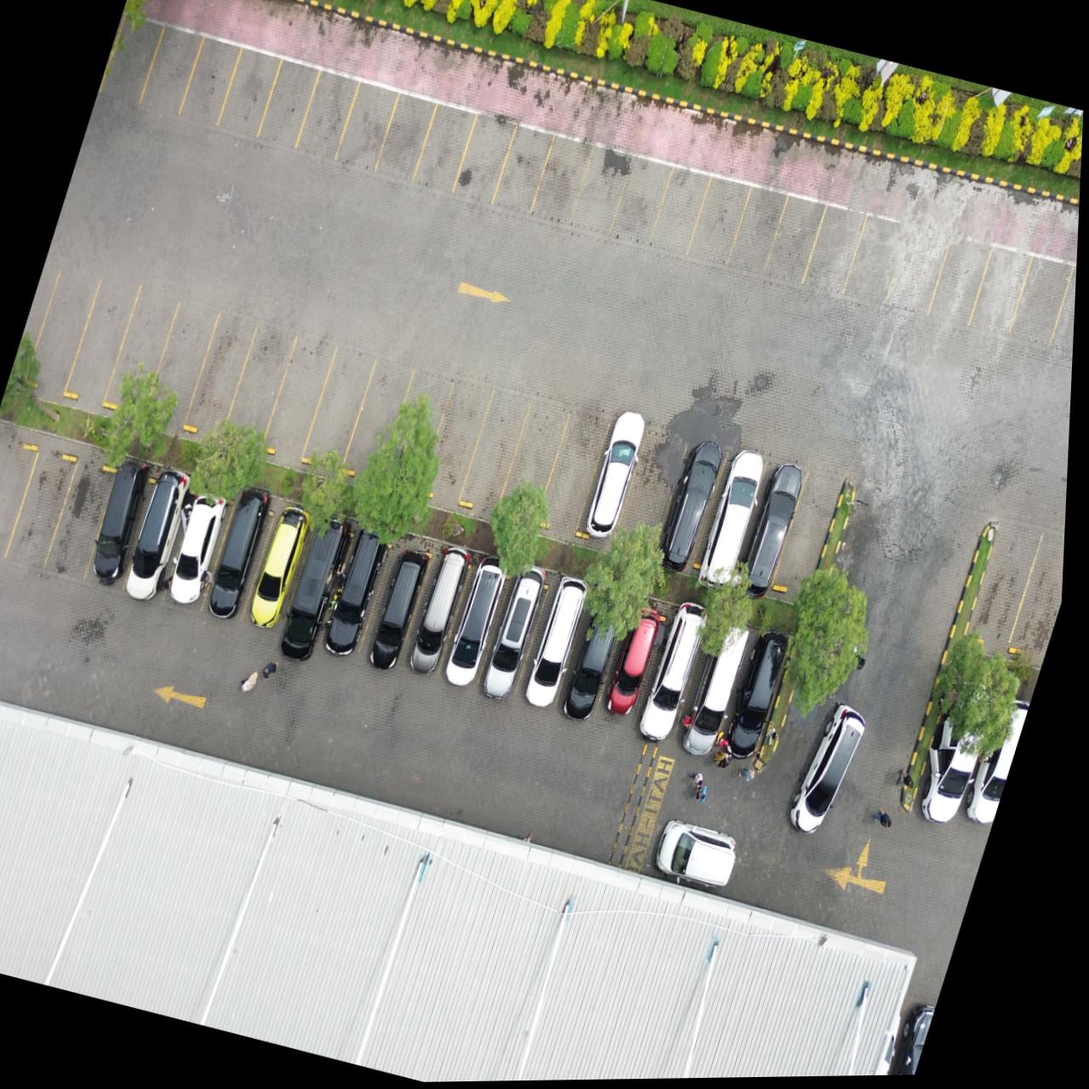cars: (320, 526, 392, 654), (162, 485, 234, 613), (482, 563, 554, 691), (576, 417, 648, 545), (122, 476, 194, 604), (360, 536, 431, 665), (201, 494, 272, 623), (277, 519, 348, 648), (242, 510, 313, 639), (640, 604, 711, 733), (439, 556, 510, 685), (721, 628, 792, 757), (84, 469, 155, 597), (597, 598, 668, 726), (680, 615, 751, 743), (562, 588, 633, 716), (404, 547, 475, 675), (655, 445, 726, 573), (698, 452, 769, 580), (738, 462, 809, 590), (521, 573, 592, 701)
empty: (62, 258, 145, 417), (22, 249, 106, 406), (98, 280, 183, 434), (38, 448, 123, 599), (140, 291, 223, 444), (178, 303, 261, 455), (416, 365, 499, 515), (610, 416, 692, 567), (298, 335, 380, 486), (218, 315, 300, 466), (0, 438, 82, 589), (494, 385, 575, 536), (377, 356, 458, 505), (533, 395, 613, 545), (456, 375, 536, 525), (338, 345, 418, 495), (258, 326, 338, 476), (771, 458, 847, 605), (0, 427, 42, 578)
